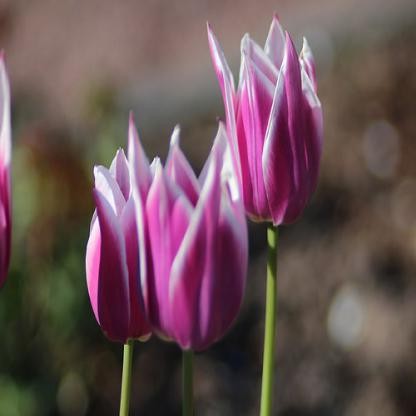TULIP: (85, 8, 336, 376)
